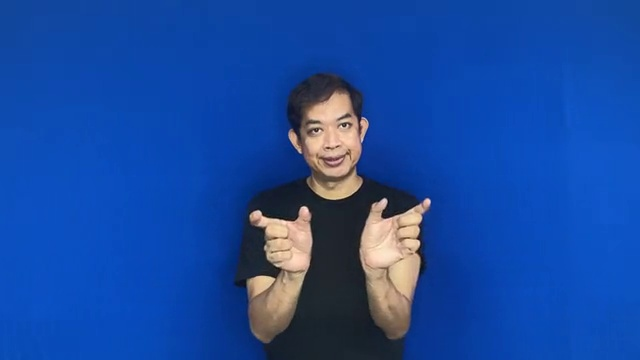crab: (242, 189, 439, 284)
